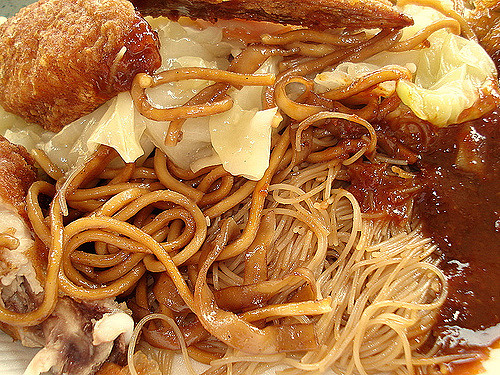plain spaghetti: (279, 198, 427, 367), (95, 168, 249, 304)
